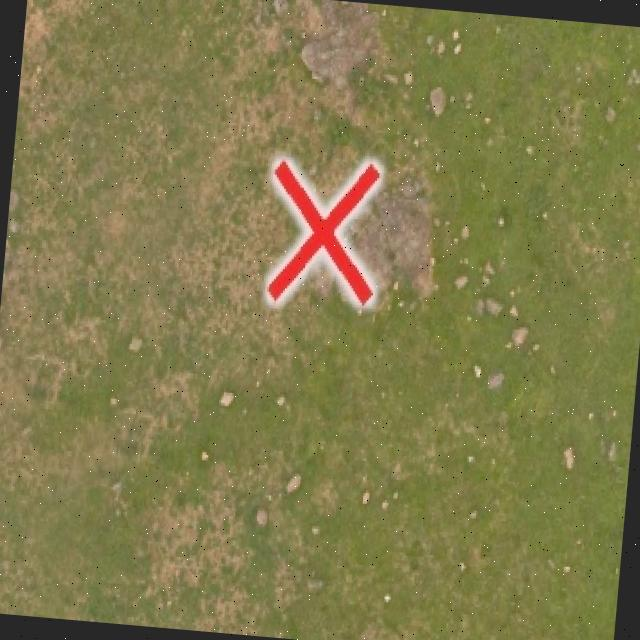x_marker: (263, 154, 383, 307)
